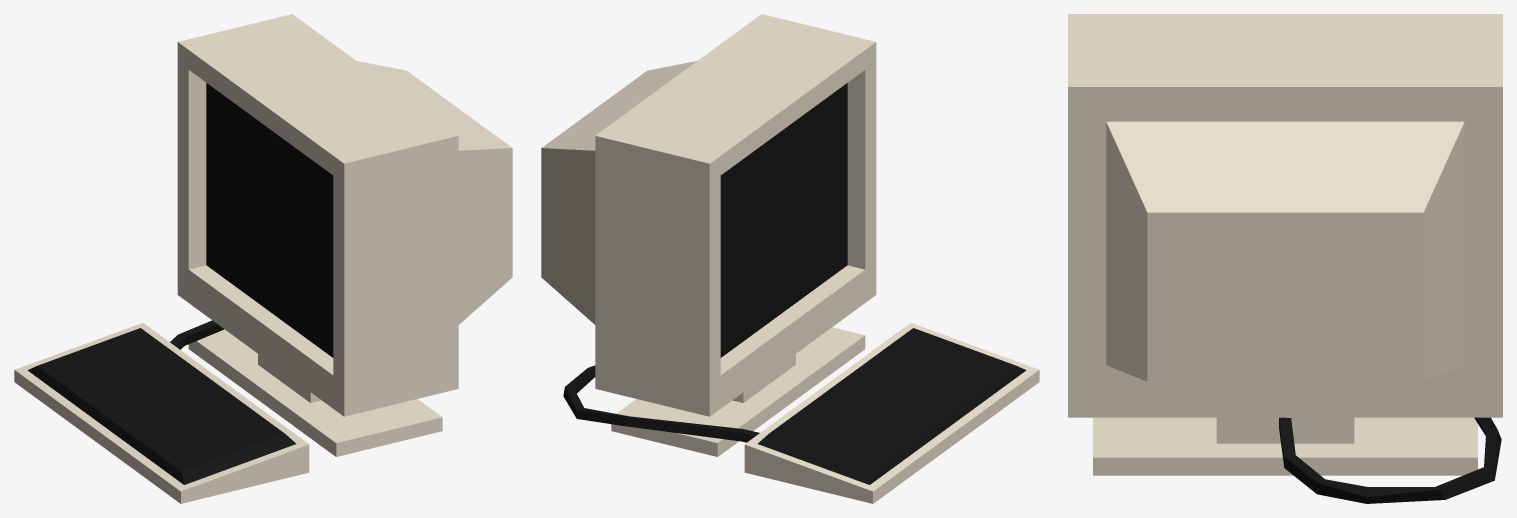
Rendered from computer_element.fbx.
3 renders of one model, left to right at view 1: azimuth 30°, elevation 25°; view 2: azimuth 150°, elevation 25°; view 3: azimuth 270°, elevation 25°, orthographic. The views are drawn at different scales.
Visible parts, largest first — view 1: Screen+, Keyboard; view 2: Screen+, Keyboard; view 3: Screen+, Keyboard.
Boxes of the visible parts, x1,y1,x2,y2 form: Screen+: (177, 14, 512, 456); Keyboard: (14, 320, 309, 503); Screen+: (541, 14, 876, 456); Keyboard: (563, 323, 1039, 503); Screen+: (1068, 14, 1502, 475); Keyboard: (1279, 417, 1501, 503).
Size of the model in its own units: 251 by 199 by 200.
